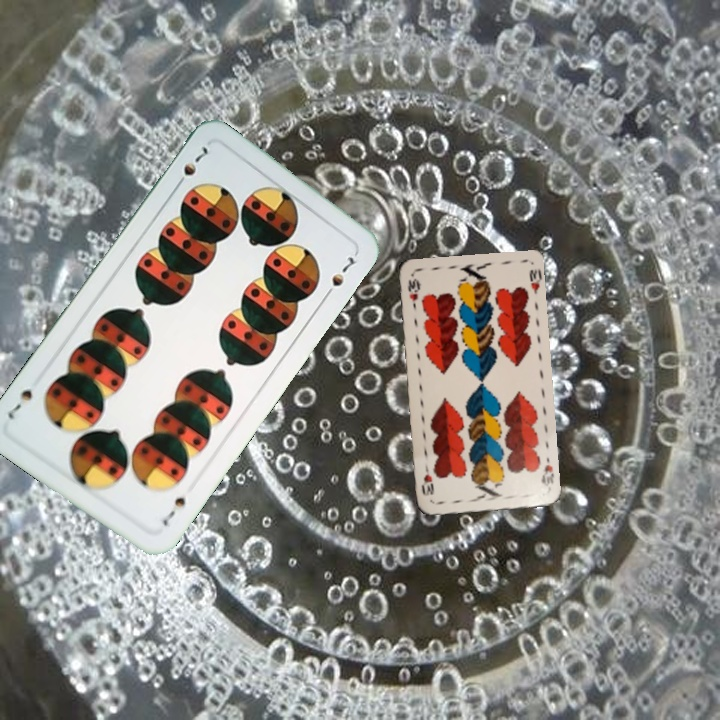H10: (537, 454, 557, 489), (404, 275, 421, 313)
S7: (171, 142, 211, 192), (158, 492, 188, 529)
